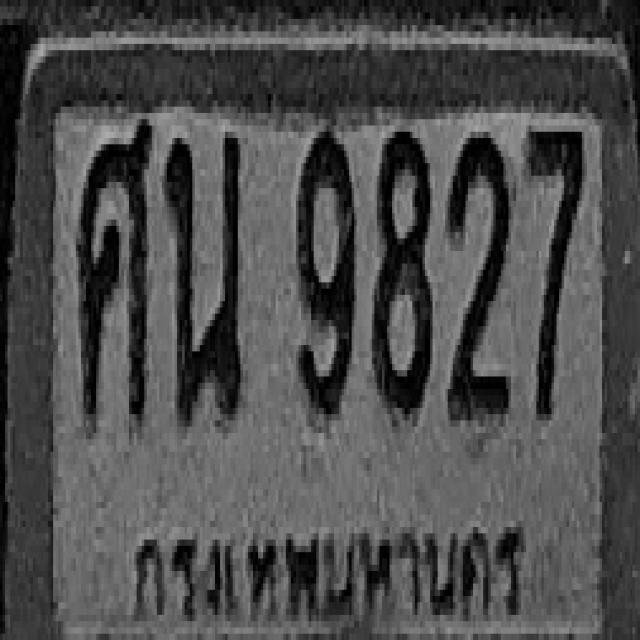2: (446, 132, 509, 420)
34NorNu: (164, 128, 240, 424)
47SorSala: (77, 119, 151, 427)
7: (526, 126, 584, 414)
8: (373, 126, 431, 414)
9: (296, 126, 354, 414)
Bangkok: (124, 491, 532, 640)
